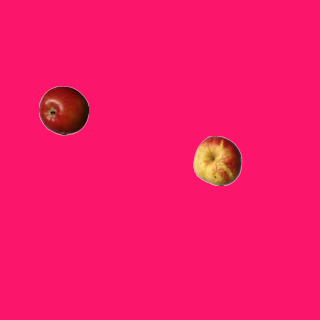Apple Braeburn: (38, 85, 88, 135)
Apple Red Yellow 1: (192, 135, 242, 185)
